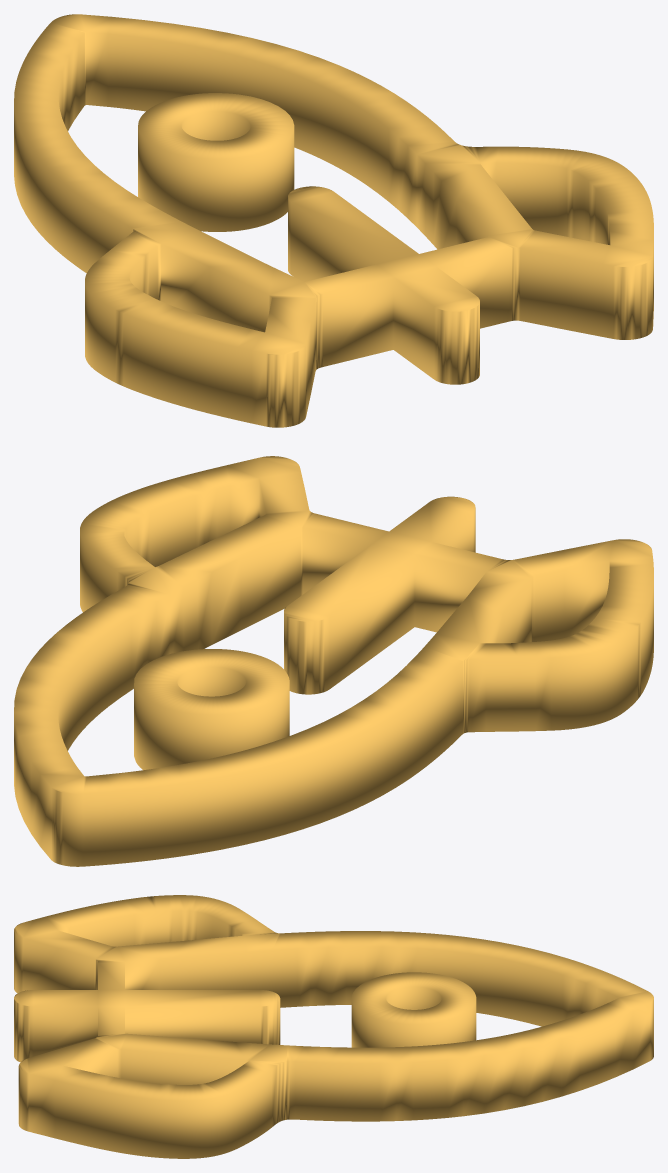
The model's file is RocketIcon.gltf.
The picture shows the model from 3 angles, top to bottom: view 1: azimuth 30°, elevation 25°; view 2: azimuth 150°, elevation 25°; view 3: azimuth 270°, elevation 25°; orthographic projection. The views are drawn at different scales.
Parts seen in each view (by area): view 1: spaceship; view 2: spaceship; view 3: spaceship.
Part boxes in pixels (x1,y1,x2,y2): spaceship: (14, 14, 653, 427); spaceship: (14, 456, 653, 866); spaceship: (14, 895, 653, 1158).
Size of the model in its own units: 0.0761 by 0.01 by 0.1.
